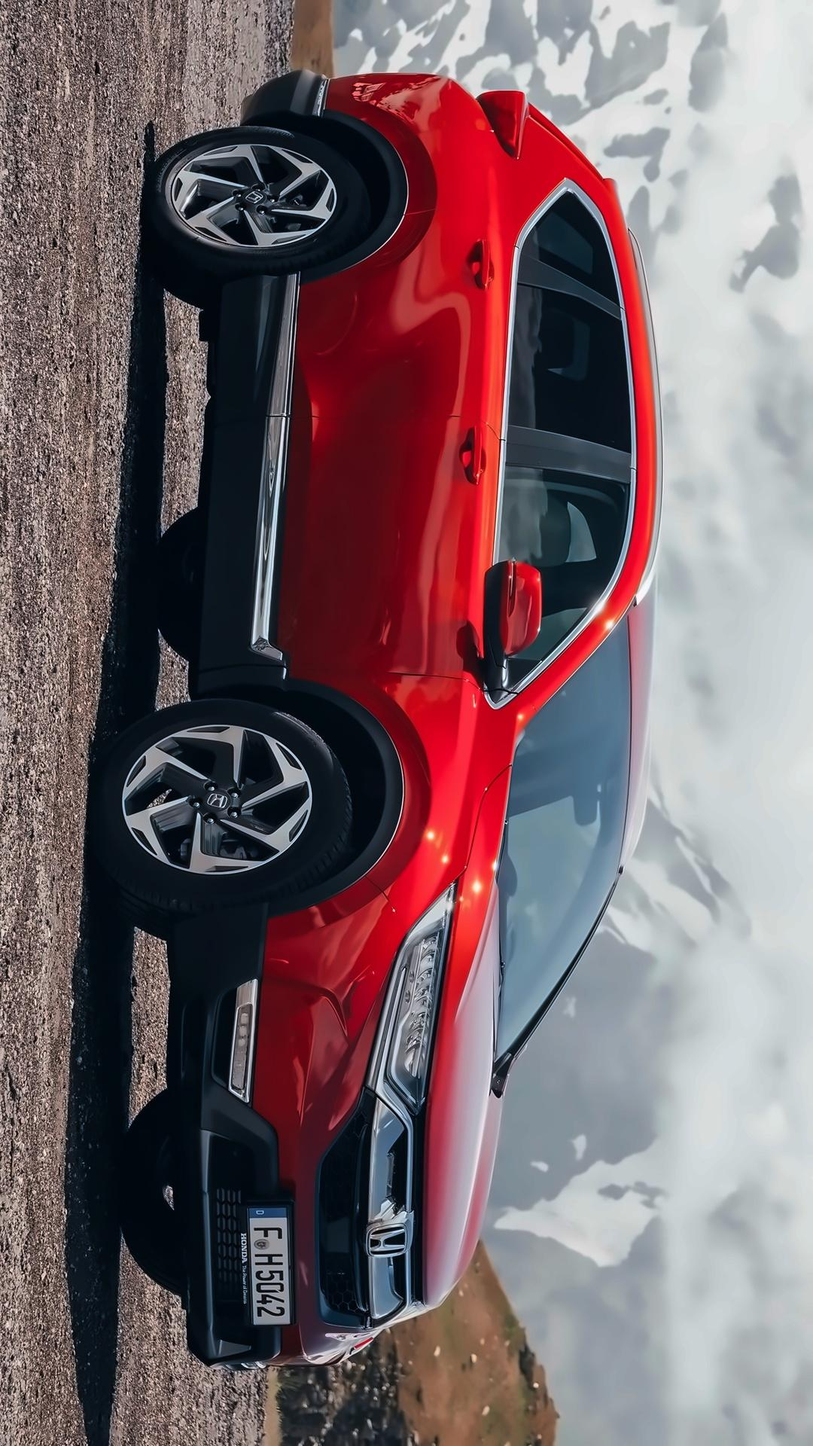Car hood: (412, 756, 510, 1332)
Driver-s door - -F-R-: (246, 417, 649, 666)
Fender - -F-R-: (201, 666, 522, 931)
Fender - -R-R-: (311, 92, 560, 212)
Front bumper: (158, 881, 385, 1376)
Headlight - -R-: (354, 874, 478, 1123)
Passenger-s door - -R-R-: (254, 209, 665, 420)
Rear bumper: (216, 53, 396, 153)
Rear light - -R-: (472, 78, 538, 171)
Side bumper - -R-: (184, 249, 303, 714)
Side mirror - -R-: (454, 538, 570, 682)
